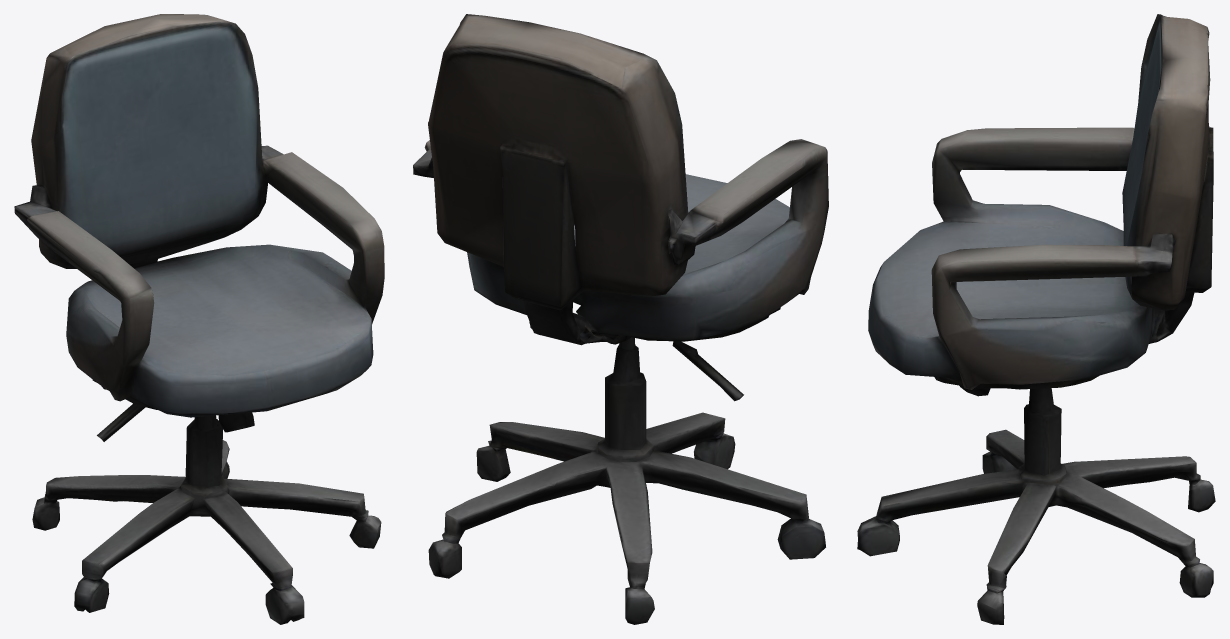
Rendered from chair.glb.
The picture shows the model from 3 angles, left to right: view 1: azimuth 30°, elevation 25°; view 2: azimuth 150°, elevation 25°; view 3: azimuth 270°, elevation 25°; orthographic projection. The views are drawn at different scales.
Parts seen in each view (by area): view 1: chair; view 2: chair; view 3: chair.
Part boxes in pixels (box(x1,y1,x2,y2)): chair: box(14, 14, 384, 624); chair: box(413, 14, 828, 624); chair: box(857, 14, 1215, 624).
Size of the model in its own units: 0.6578 by 0.998 by 0.6408.
Materials: 1 (1 with a texture image).
